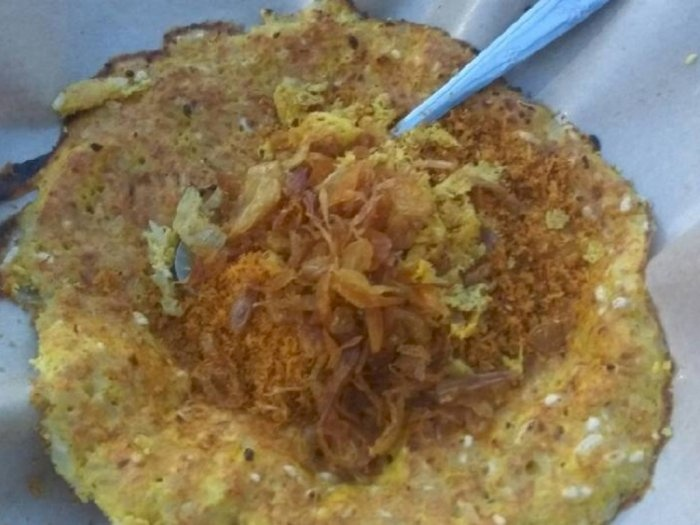kerak_telor: (25, 12, 663, 525)
